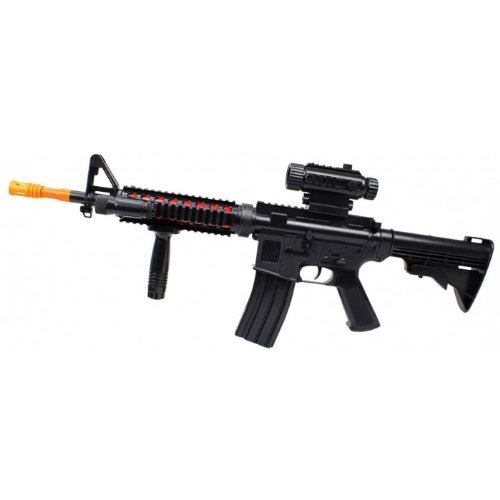Arma Falsa: (9, 155, 500, 347)
